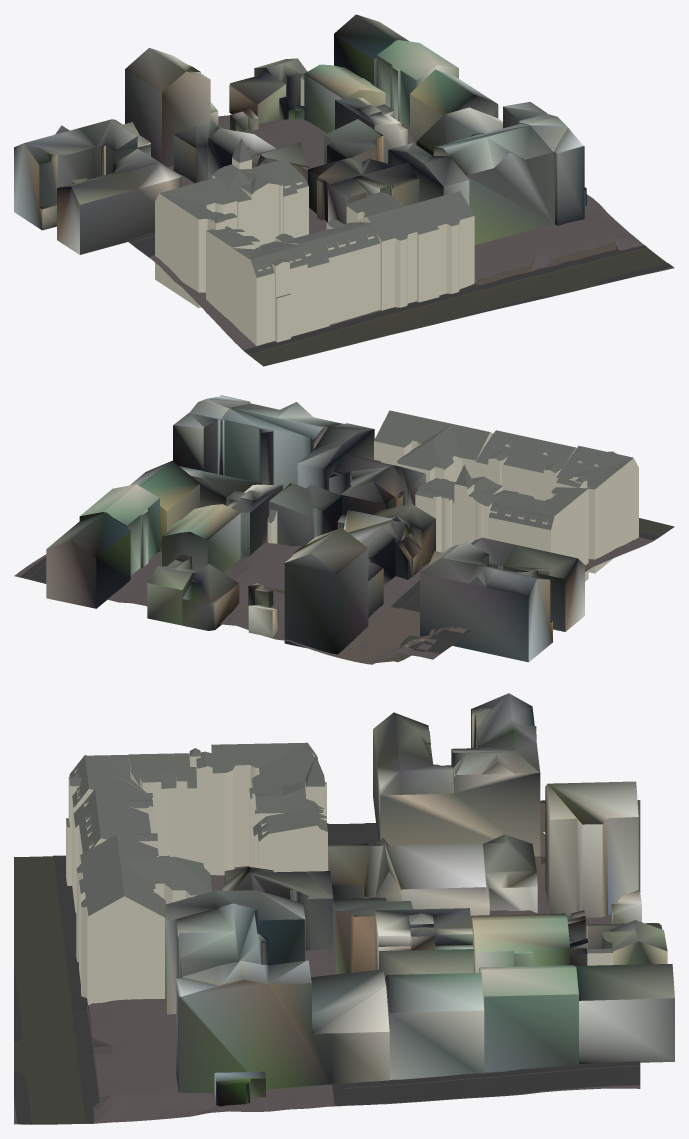
3 views of the same model, one above another, from view 1: azimuth 30°, elevation 25°; view 2: azimuth 150°, elevation 25°; view 3: azimuth 270°, elevation 25° (orthographic). The views are drawn at different scales.
Parts seen in each view (by area): view 1: c_p01_m05; view 2: c_p01_m05; view 3: c_p01_m05.
Part boxes in pixels (box(x1,y1,x2,y2)): c_p01_m05: box(14, 14, 674, 366); c_p01_m05: box(14, 395, 674, 664); c_p01_m05: box(14, 693, 674, 1124).
Size of the model in its own units: 145 by 37.02 by 135.
